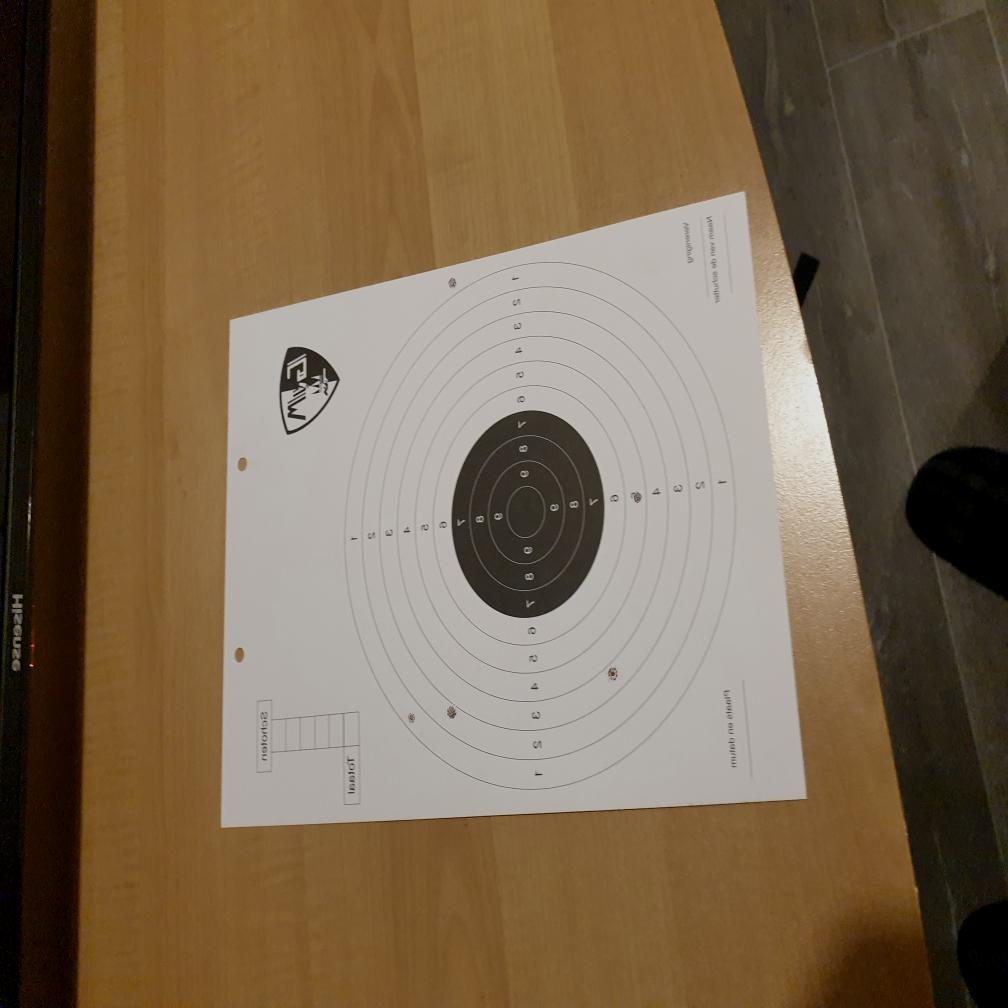0: (448, 278, 457, 290)
1: (408, 712, 416, 724)
3: (605, 666, 620, 683), (444, 704, 458, 722)
5: (633, 491, 643, 504)
Target: (343, 260, 736, 790)
black_contour: (451, 409, 605, 618)
